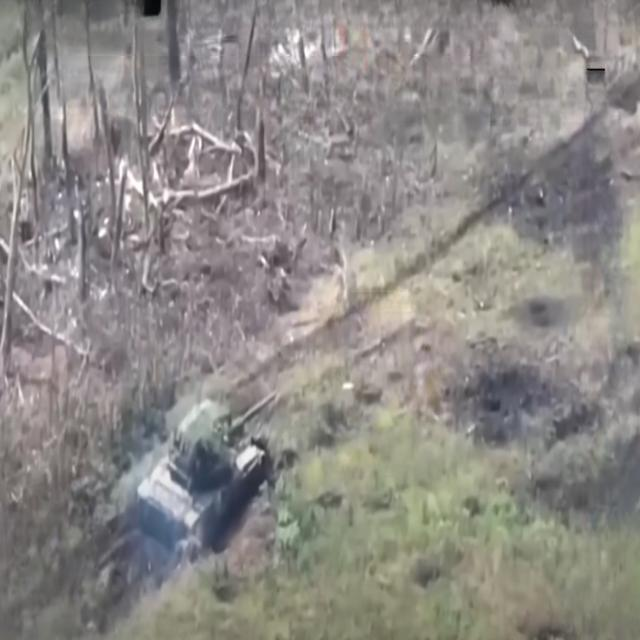MBT: (136, 393, 280, 560)
